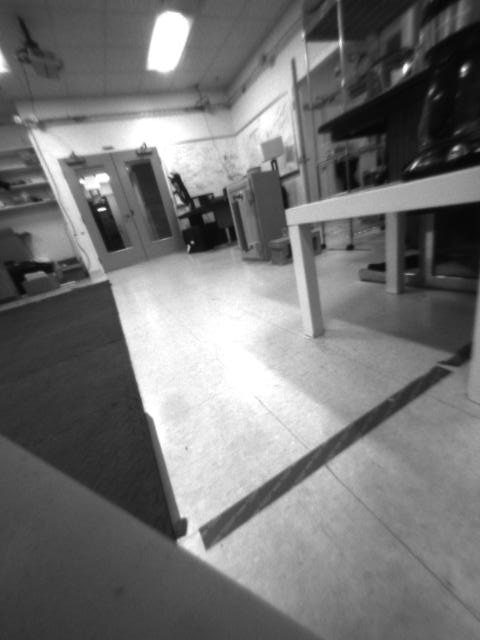coffee_pot: (414, 2, 480, 173)
